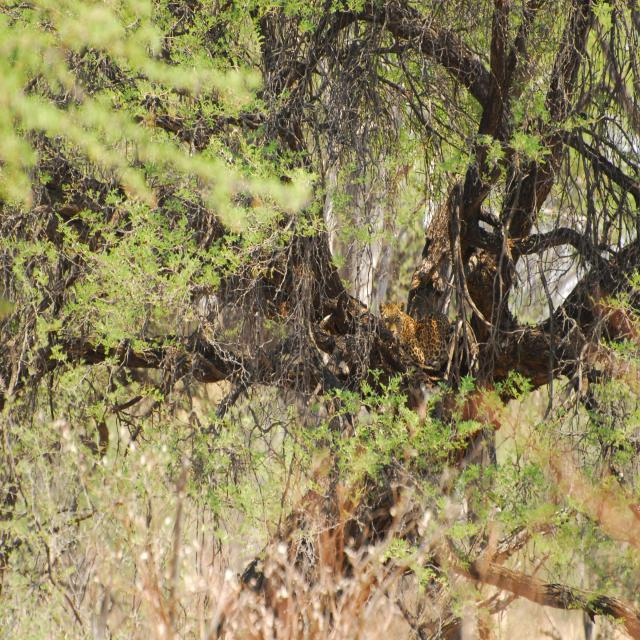Leopard: (373, 290, 471, 379)
